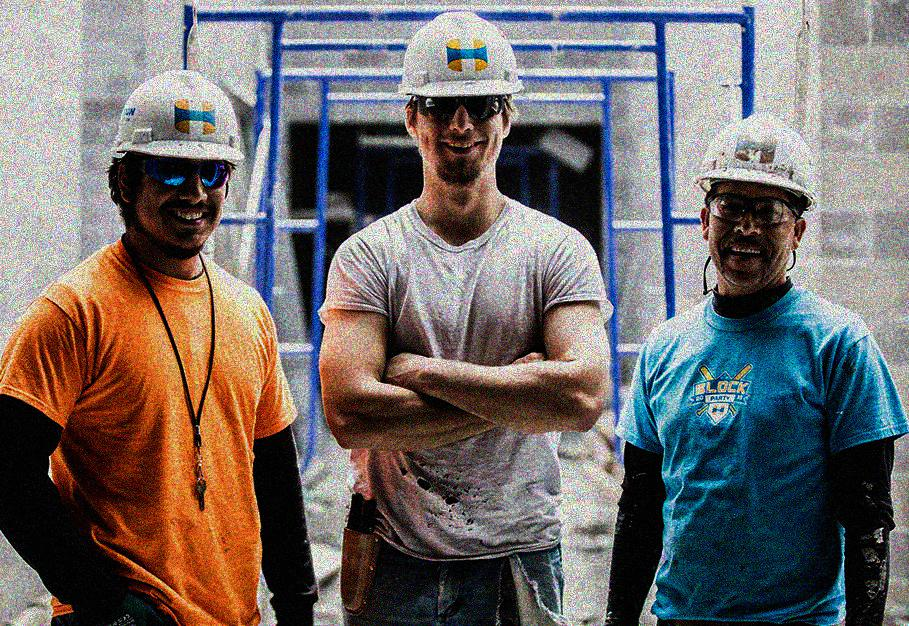helmet: (101, 68, 248, 260), (693, 110, 821, 285), (399, 7, 523, 184)
